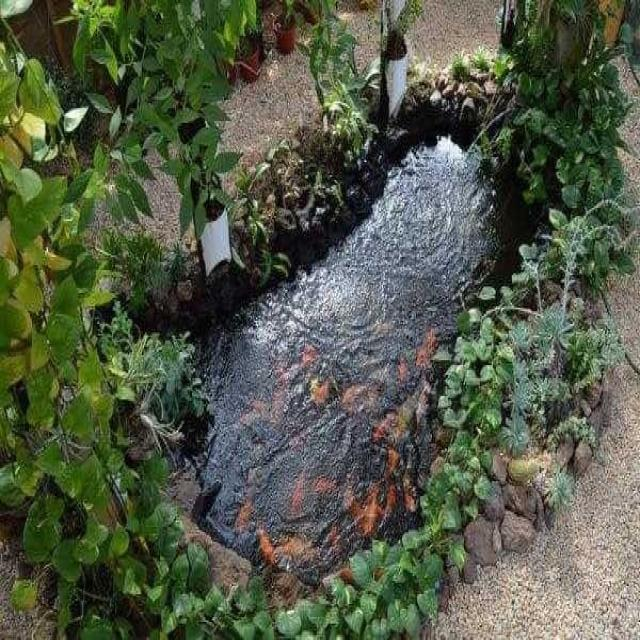Ponds: (120, 69, 617, 633)
